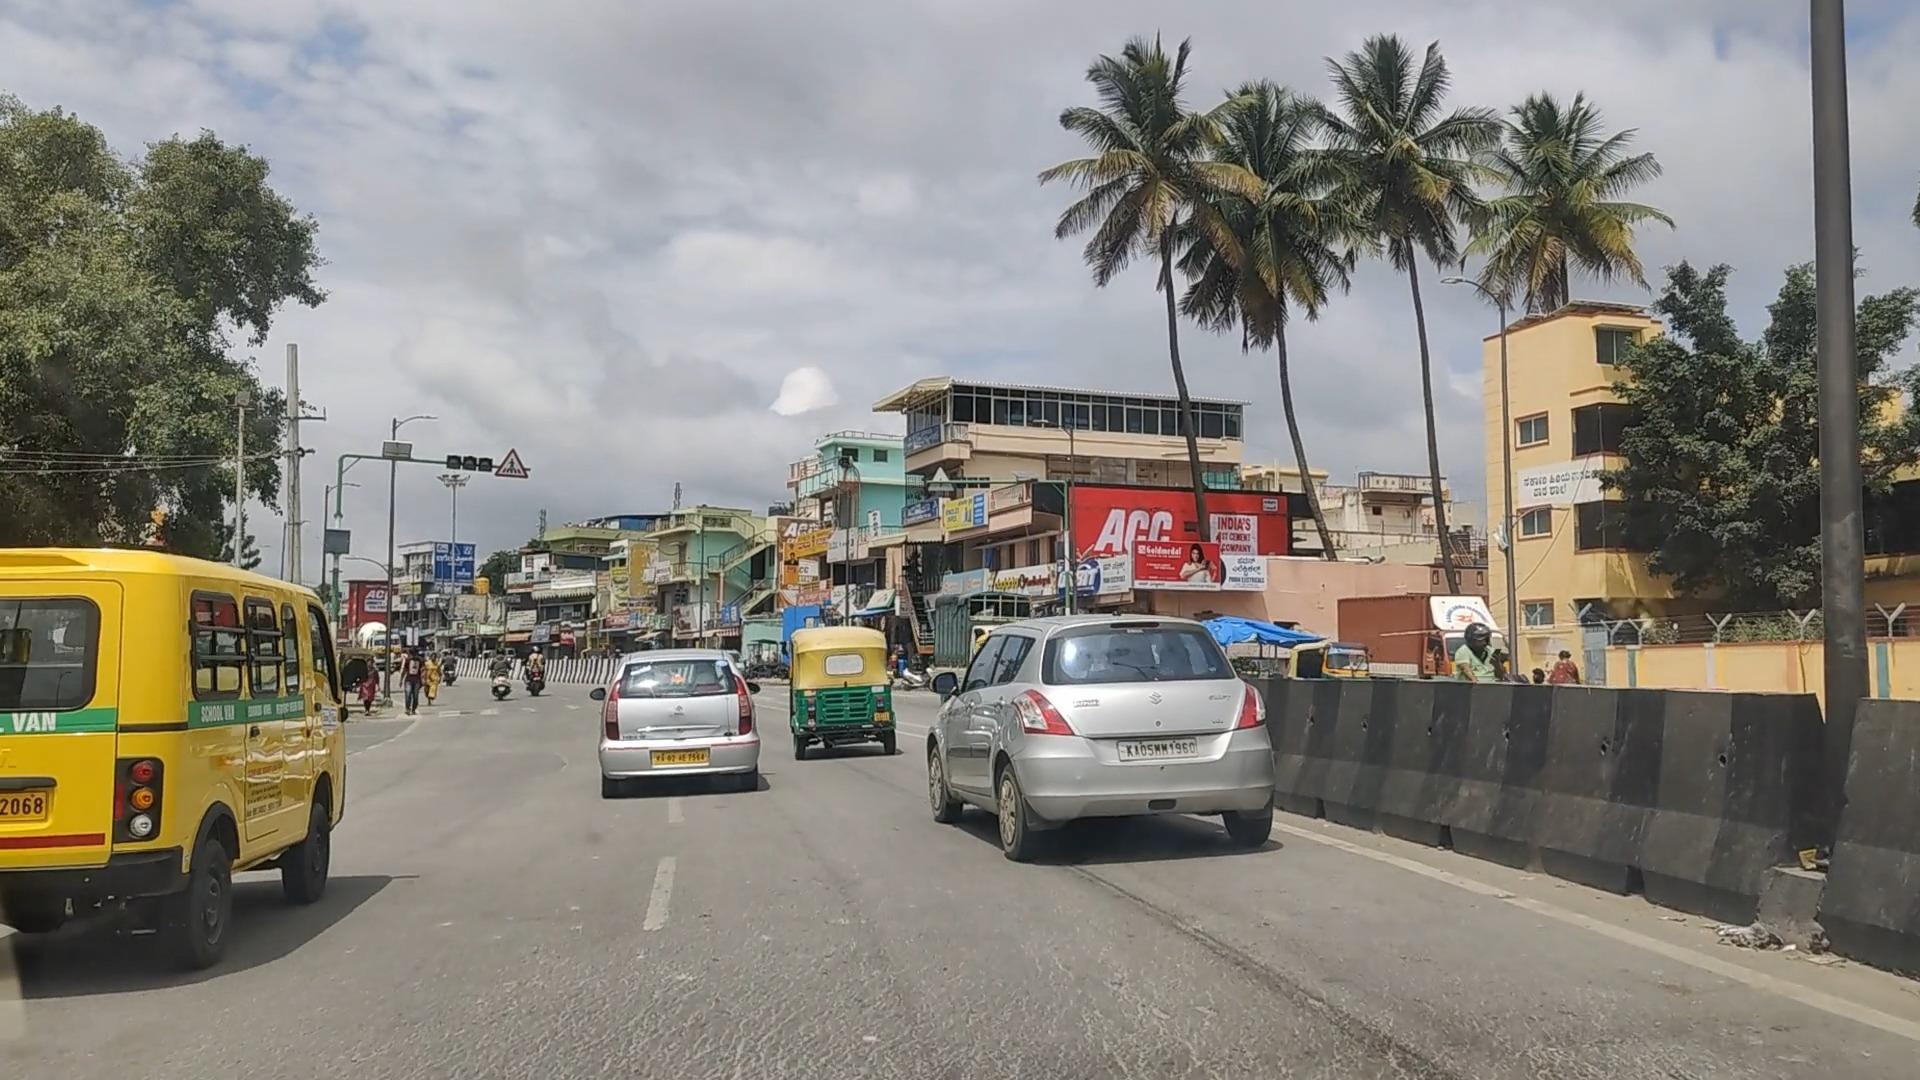LMV: (0, 463, 356, 1004), (919, 560, 1319, 903), (588, 626, 778, 832), (767, 608, 926, 807)
